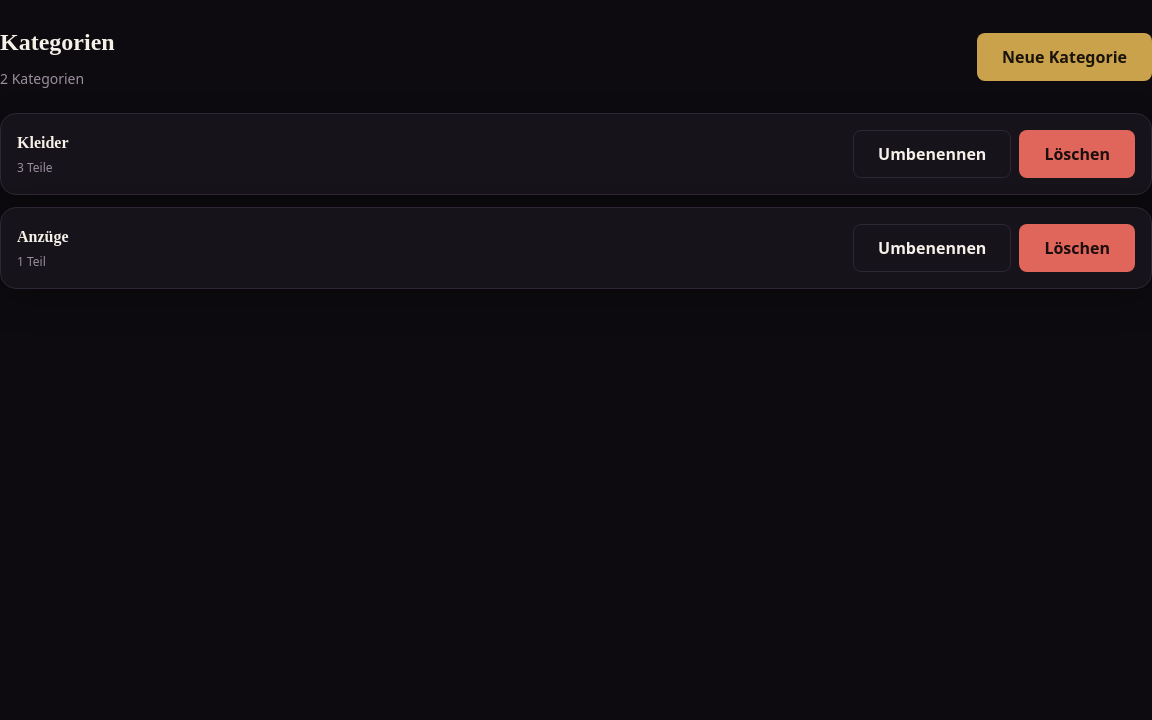
CategoriesPage › löscht eine Kategorie nach Bestätigung
Expected: the text "Kleider" is shown, [17,131,68,155]
Click the button with aria-label "Löschen Kleider" at (1077, 154), box [1019,130,1135,178]
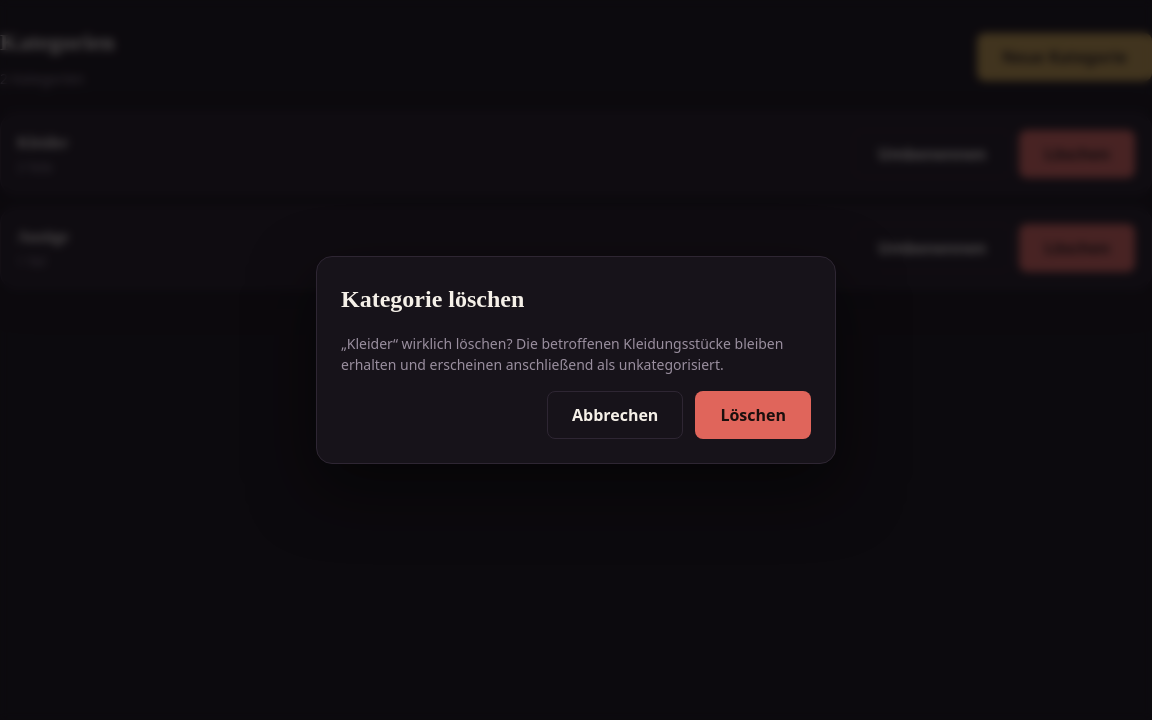
Now the text "unkategorisiert" is shown, box [341,334,783,374]
Click the button "Löschen" at (753, 415), box [695,391,811,439]
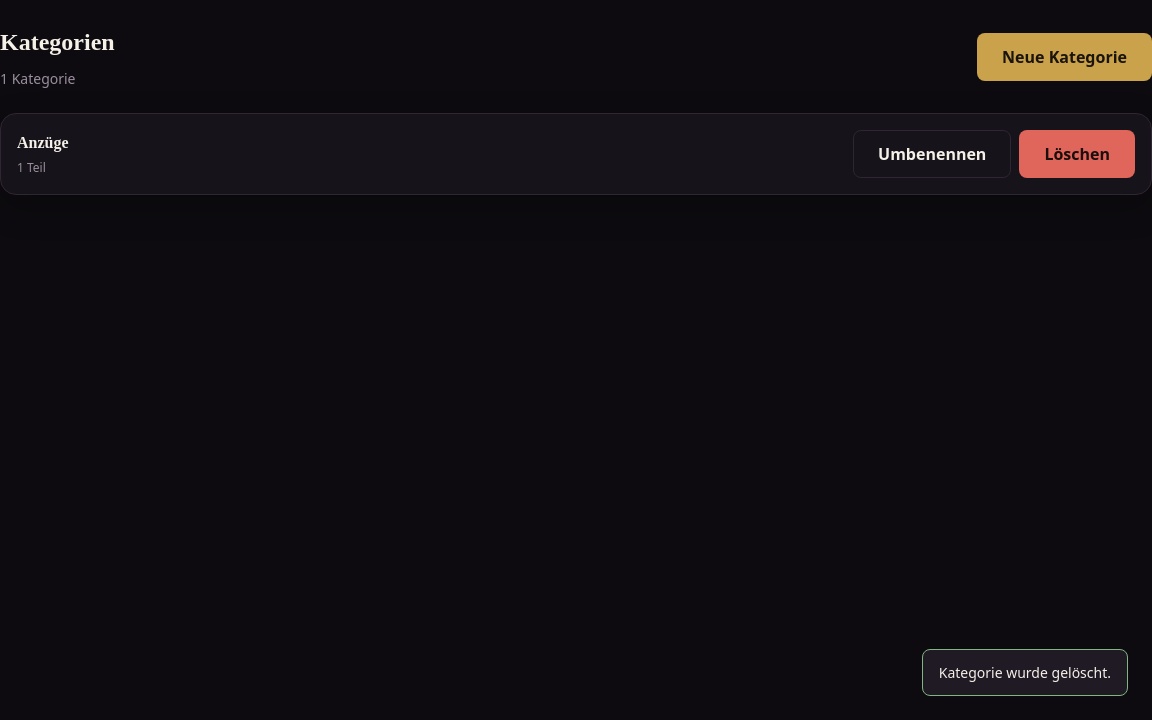
Now the text "Kleider" is gone
Now the message reads "Kategorie wurde gelöscht.", box [939,663,1111,682]
